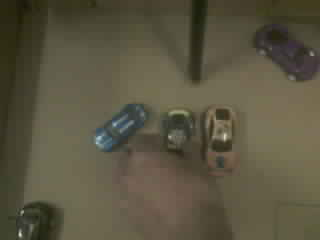Car: (257, 25, 318, 79), (96, 104, 147, 151), (202, 106, 235, 174), (165, 109, 193, 150), (20, 204, 50, 239)
